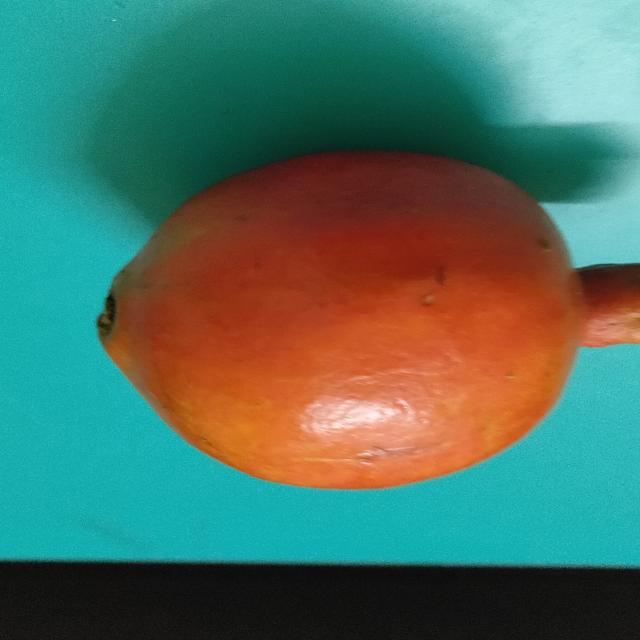Good_Pomegranate-50-60-days: (95, 150, 640, 493)
